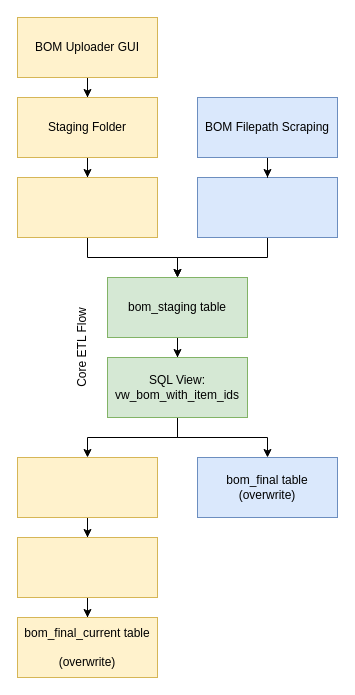
The diagram is 355 pixels wide and 695 high, and some of its shapes have lost their labels. Here are the shapes that lost their labels. From the top down, the centre of each, then its label:
At point 87,207: "ETL: staging_folder_etl.py".
At point 267,207: "ETL: folder_scraping_etl.py".
At point 87,487: "bom_final_history table (append)".
At point 87,567: "SQL view: vw_bom_final_current".
